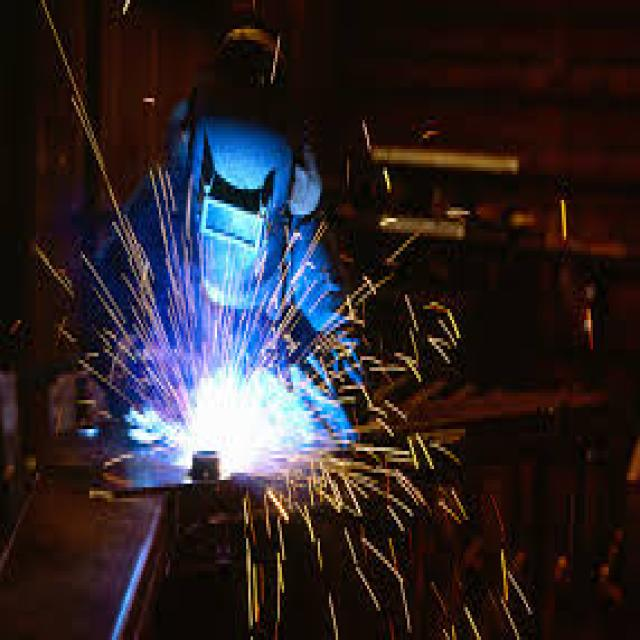welding: (184, 374, 284, 468)
